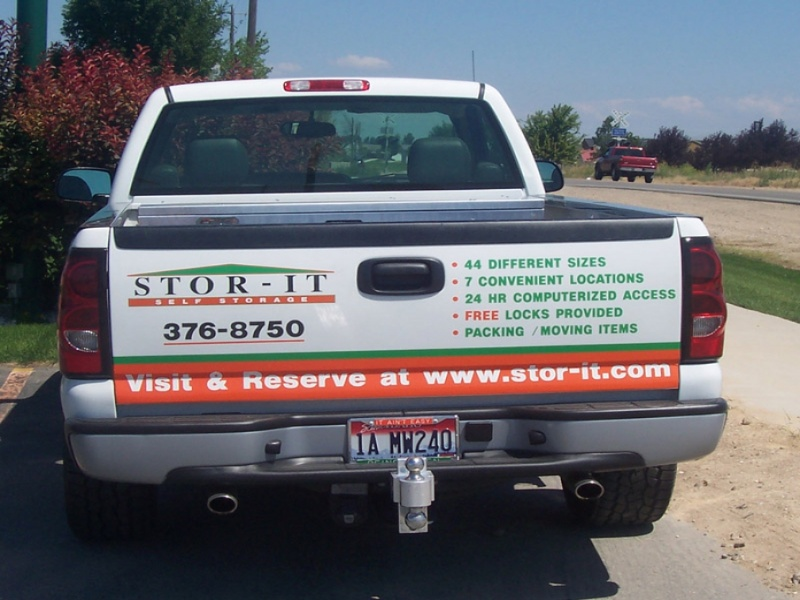licence plate: (346, 412, 459, 465)
